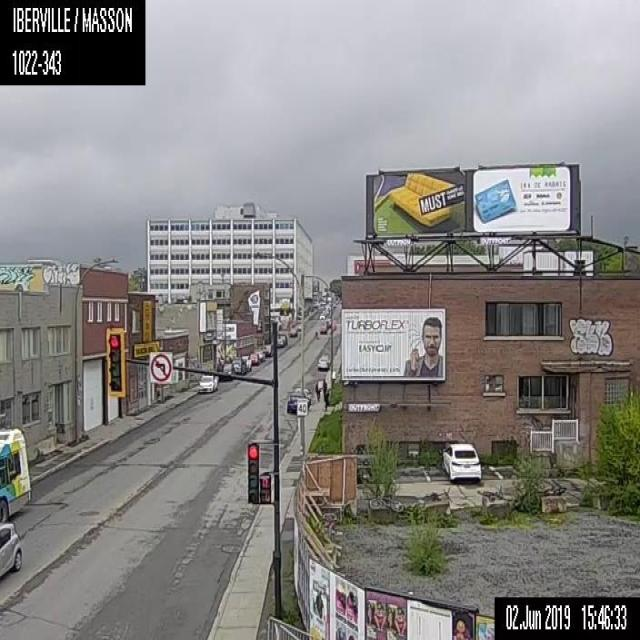bus: (0, 424, 35, 520)
pedestrian: (314, 379, 320, 401), (321, 376, 326, 401)
vehicle: (439, 440, 483, 485), (0, 522, 22, 575), (196, 371, 218, 392), (216, 361, 234, 381), (292, 386, 310, 404), (286, 394, 302, 413), (231, 354, 246, 374), (316, 354, 331, 370), (261, 342, 272, 357), (241, 355, 251, 371), (249, 352, 258, 365), (274, 337, 284, 348), (287, 326, 297, 336), (256, 351, 265, 362), (319, 320, 326, 333), (318, 311, 326, 320)
